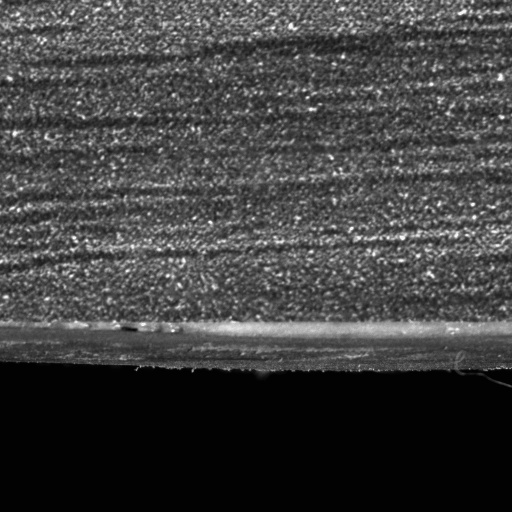kaijiao: (0, 311, 511, 377)
